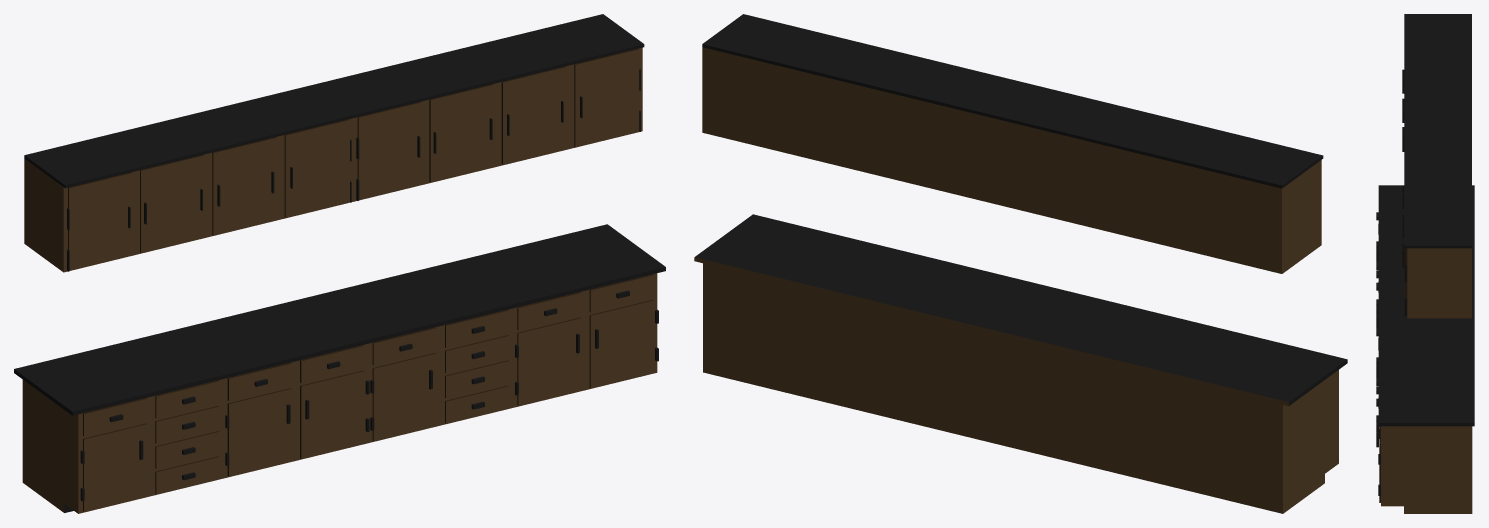
The model's file is counterMERGEDwithtop.fbx.
3 renders of one model, left to right at view 1: azimuth 30°, elevation 25°; view 2: azimuth 150°, elevation 25°; view 3: azimuth 270°, elevation 25°, orthographic. The views are drawn at different scales.
Visible parts, largest first — view 1: Cube.009; view 2: Cube.009; view 3: Cube.009.
Boxes of the visible parts, <box> form: Cube.009: <box>14,14,665,513</box>; Cube.009: <box>694,14,1347,513</box>; Cube.009: <box>1376,14,1474,513</box>.
Bounding box in the file's own units: 615 × 324 × 108.
